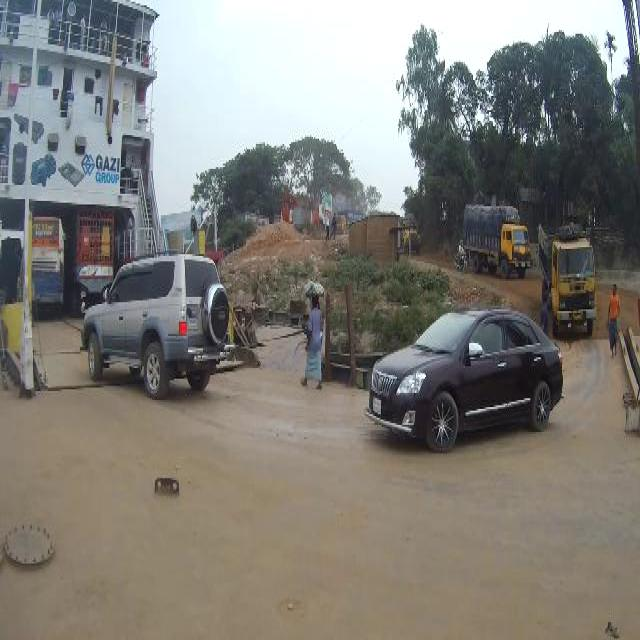SUV: (369, 299, 569, 464), (75, 252, 232, 411)
TRUCK: (541, 228, 599, 338), (460, 204, 531, 280)
